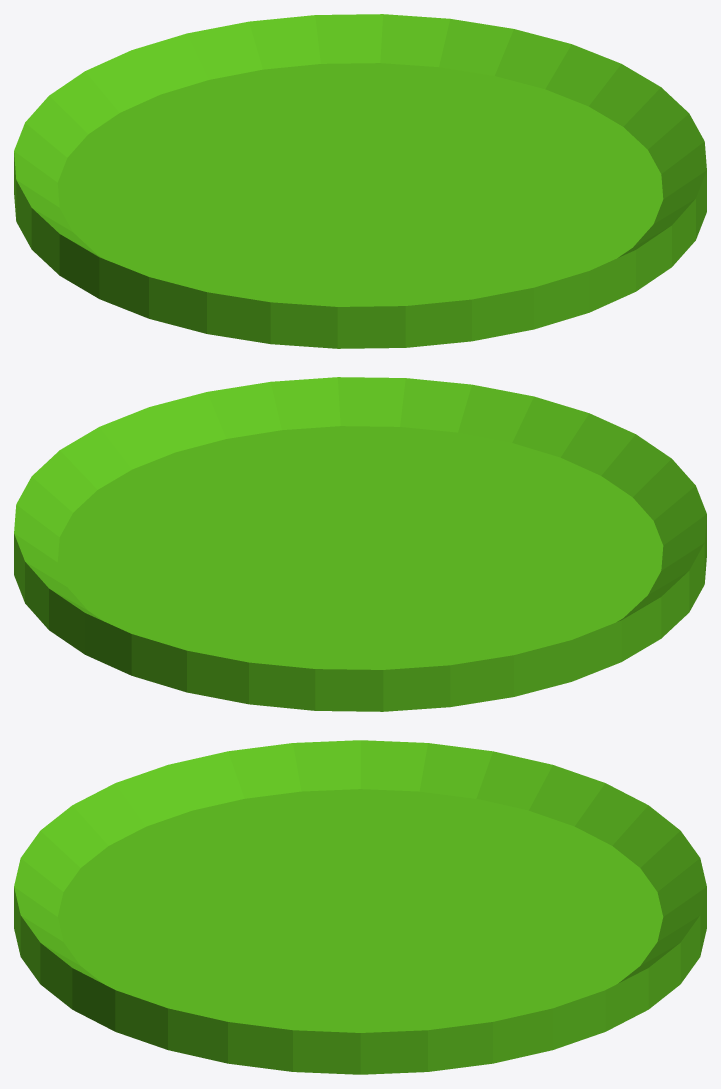
The model's file is waterlily_big.fbx.
The picture shows the model from 3 angles, top to bottom: view 1: azimuth 30°, elevation 25°; view 2: azimuth 150°, elevation 25°; view 3: azimuth 270°, elevation 25°; orthographic projection.
Parts seen in each view (by area): view 1: Waterlily; view 2: Waterlily; view 3: Waterlily.
Part boxes in pixels (x1,y1,x2,y2): Waterlily: (14, 14, 706, 348); Waterlily: (14, 377, 706, 711); Waterlily: (14, 740, 706, 1074).
Bounding box in the file's own units: 38.21 × 2.54 × 38.21.
